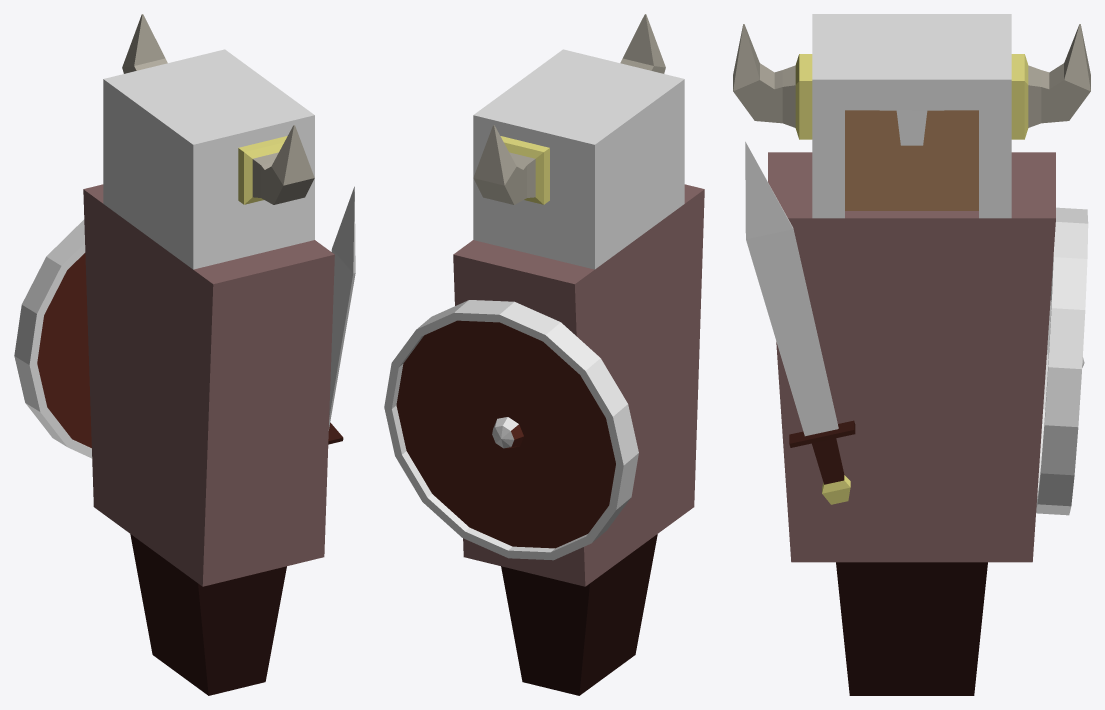
Rendered from warrior_new.fbx.
The picture shows the model from 3 angles, left to right: view 1: azimuth 30°, elevation 25°; view 2: azimuth 150°, elevation 25°; view 3: azimuth 270°, elevation 25°; orthographic projection. The views are drawn at different scales.
Visible parts, largest first — view 1: Warrior; view 2: Warrior; view 3: Warrior.
Part boxes in pixels (x1=…): Warrior: x1=14, y1=14, x2=355, y2=695; Warrior: x1=384, y1=14, x2=704, y2=695; Warrior: x1=733, y1=14, x2=1090, y2=695.
Bounding box in the file's own units: 0.632 × 1.5 × 0.7373.
